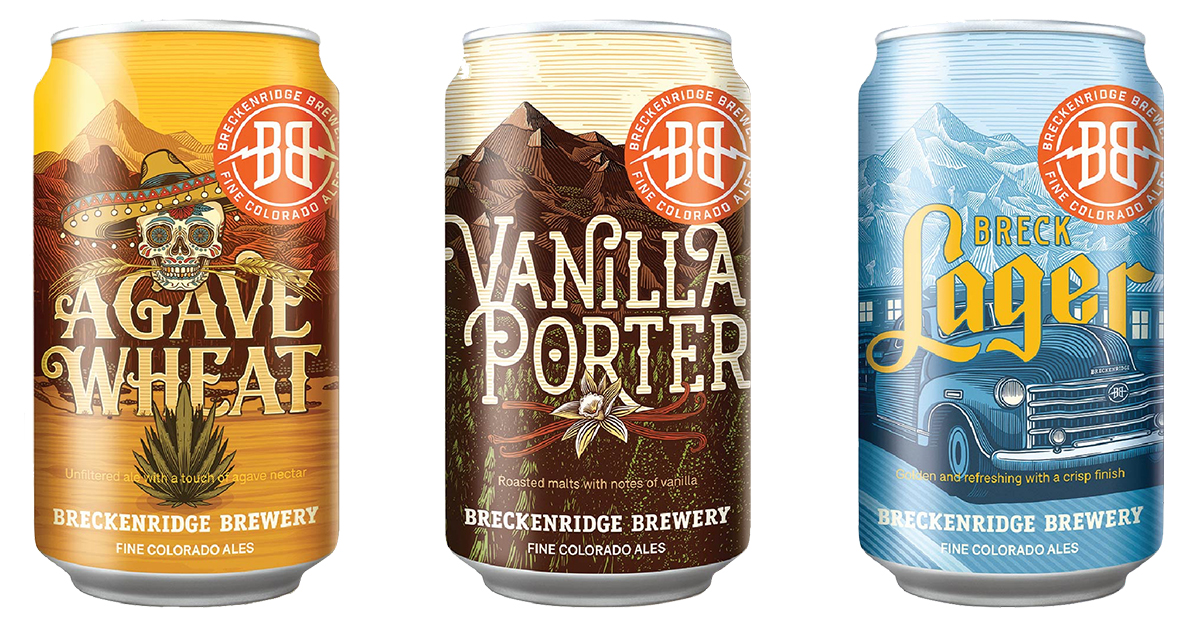beer can: (855, 17, 1167, 614), (29, 19, 345, 605), (447, 25, 752, 607)
